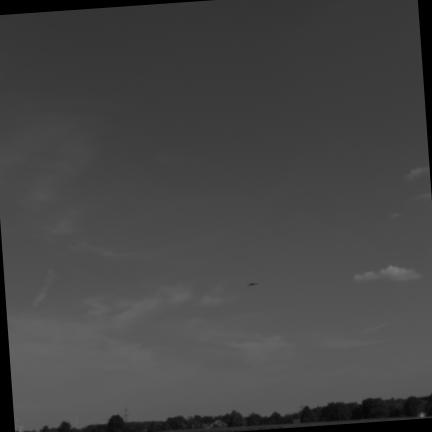Shahed: (247, 282, 257, 285)
